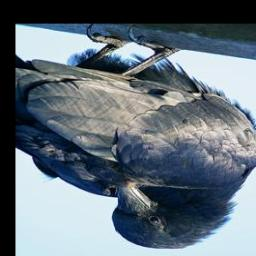Crow: (15, 25, 256, 250)
